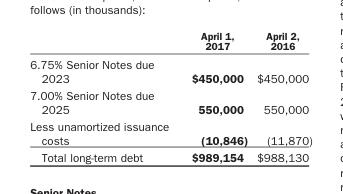table: (29, 29, 311, 163)
table column: (29, 29, 179, 163), (179, 29, 251, 163), (251, 29, 311, 163)
table column header: (29, 29, 311, 54)
table row: (29, 54, 311, 86), (29, 86, 311, 117), (29, 117, 311, 148), (29, 29, 311, 54), (29, 148, 311, 163)
